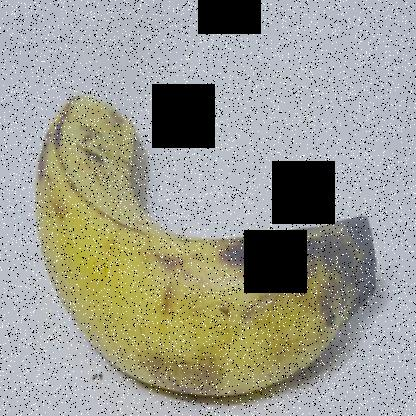ripe: (29, 76, 390, 410)
